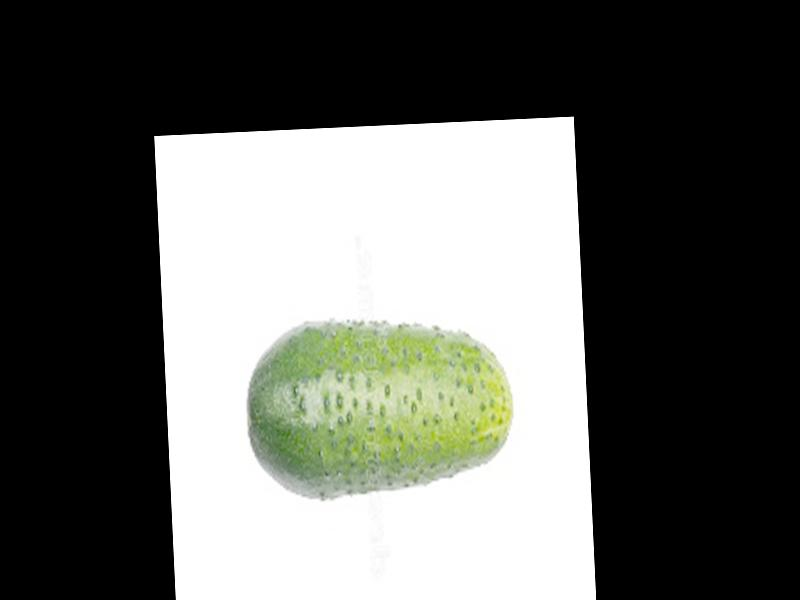Cucumber: (242, 309, 518, 504)
